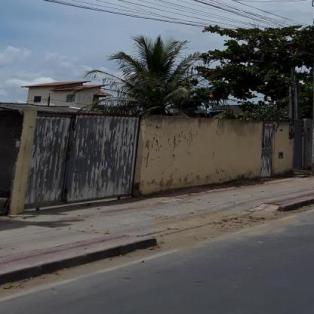Poste: (311, 0, 314, 175)
